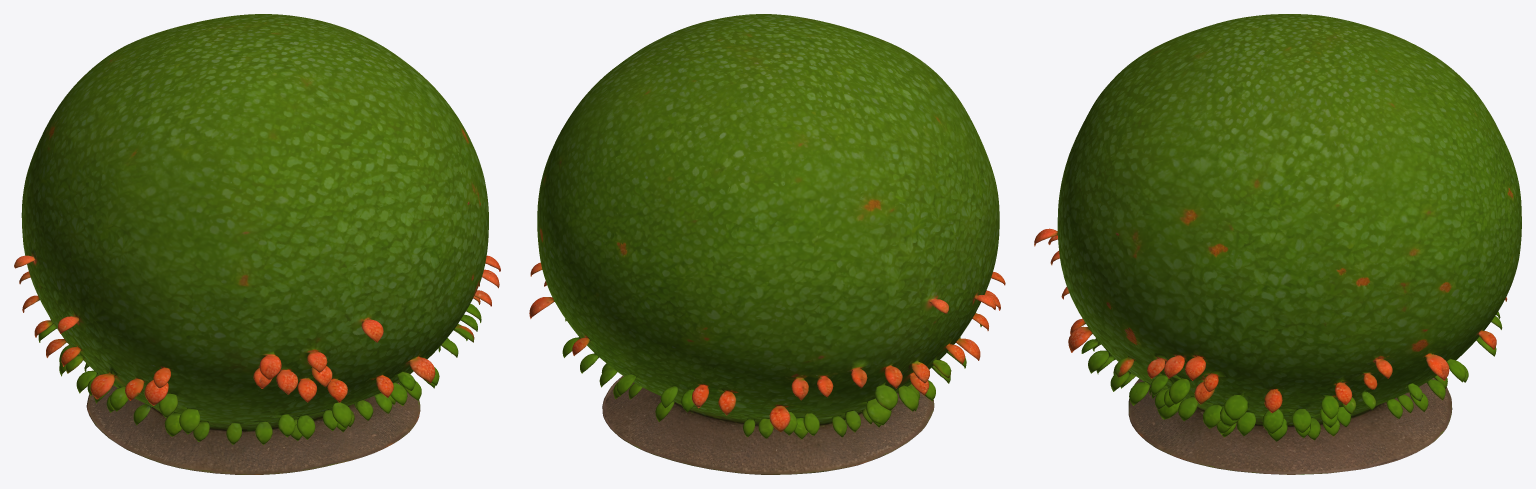
File: original-shrub.glb
3 views of the same model, side by side, from view 1: azimuth 30°, elevation 25°; view 2: azimuth 150°, elevation 25°; view 3: azimuth 270°, elevation 25° (orthographic).
Parts seen in each view (by area): view 1: material; view 2: material; view 3: material.
Boxes of the visible parts, x1,y1,x2,y2 form: material: [14, 14, 500, 474]; material: [529, 14, 1005, 474]; material: [1034, 14, 1521, 474].
Size of the model in its own units: 1.04 by 0.893 by 1.07.
1 material, 1 textured.
